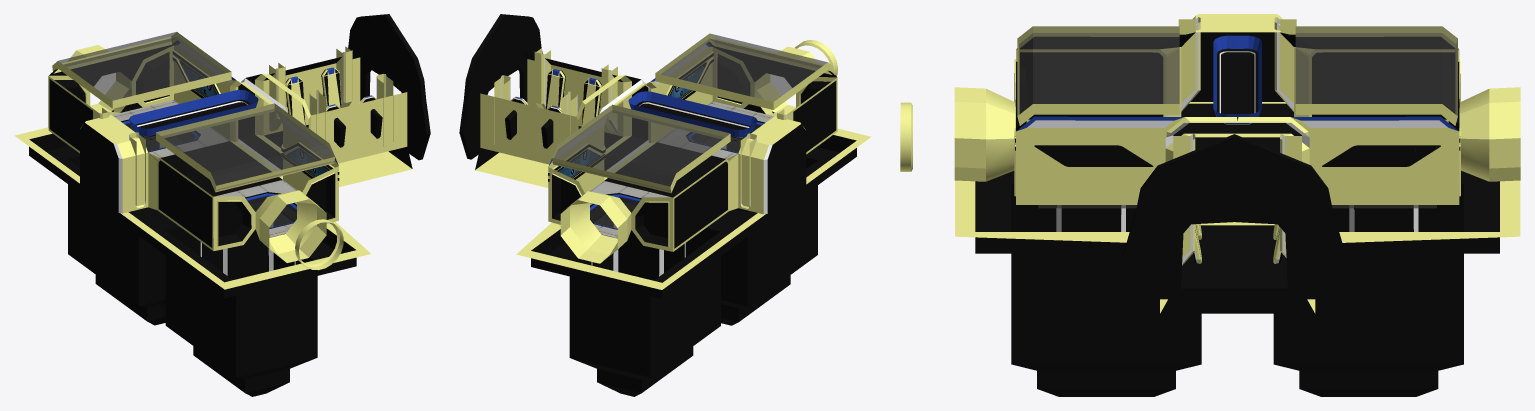
Rendered from Sala00.FBX.
3 renders of one model, left to right at view 1: azimuth 30°, elevation 25°; view 2: azimuth 150°, elevation 25°; view 3: azimuth 270°, elevation 25°, orthographic. The views are drawn at different scales.
Parts seen in each view (by area): view 1: Sala00, Line008, Cylinder006; view 2: Sala00, Line008, Cylinder006; view 3: Sala00, Line008, Cylinder006.
Part boxes in pixels (x1,y1,x2,y2): Sala00: (14, 32, 412, 396); Line008: (348, 14, 430, 160); Cylinder006: (295, 219, 343, 270); Sala00: (475, 33, 871, 396); Line008: (459, 14, 542, 159); Cylinder006: (795, 40, 837, 76); Sala00: (954, 14, 1520, 396); Line008: (1123, 134, 1345, 299); Cylinder006: (900, 102, 912, 171).
Size of the model in its own units: 28.6 by 27.03 by 39.6.
